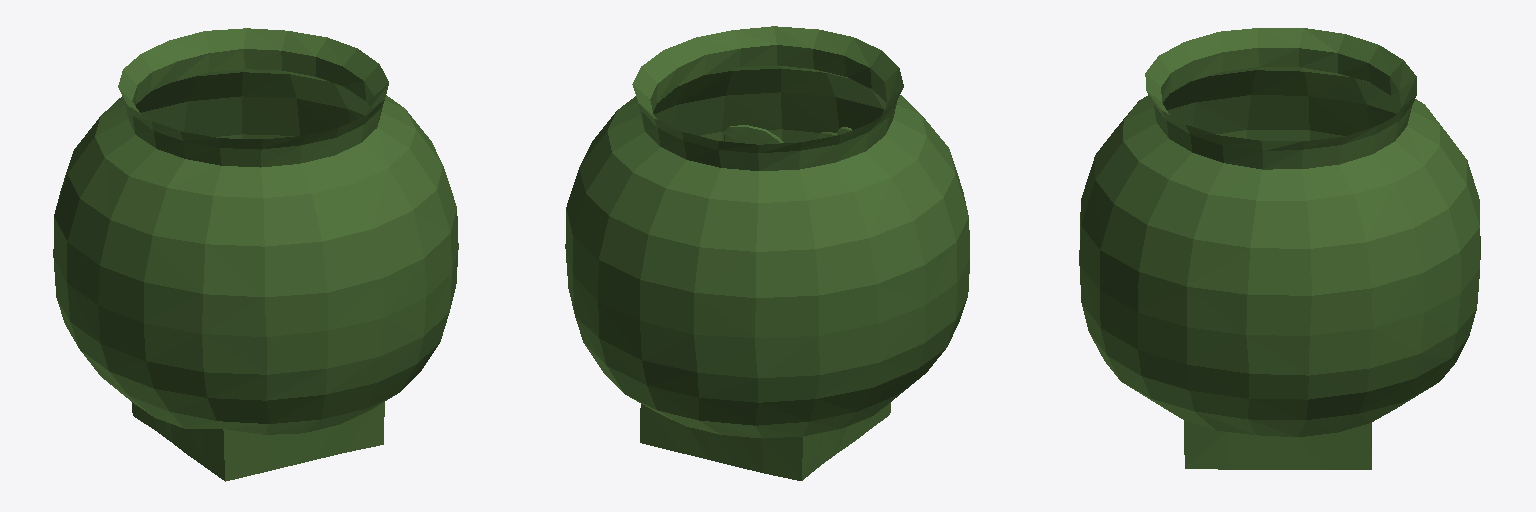
Rendered from fishforsketchfab.obj.
3 renders of one model, left to right at view 1: azimuth 30°, elevation 25°; view 2: azimuth 150°, elevation 25°; view 3: azimuth 270°, elevation 25°, orthographic.
Visible parts, largest first — view 1: bowl_and_co bowl1; view 2: bowl_and_co bowl1, fish bowl_and_co; view 3: bowl_and_co bowl1.
Part boxes in pixels (bbox=[...]): bowl_and_co bowl1: bbox=[53, 28, 458, 481]; bowl_and_co bowl1: bbox=[565, 26, 969, 480]; fish bowl_and_co: bbox=[724, 125, 851, 144]; bowl_and_co bowl1: bbox=[1079, 28, 1480, 469].
Size of the model in its own units: 14.06 by 13.47 by 14.06.